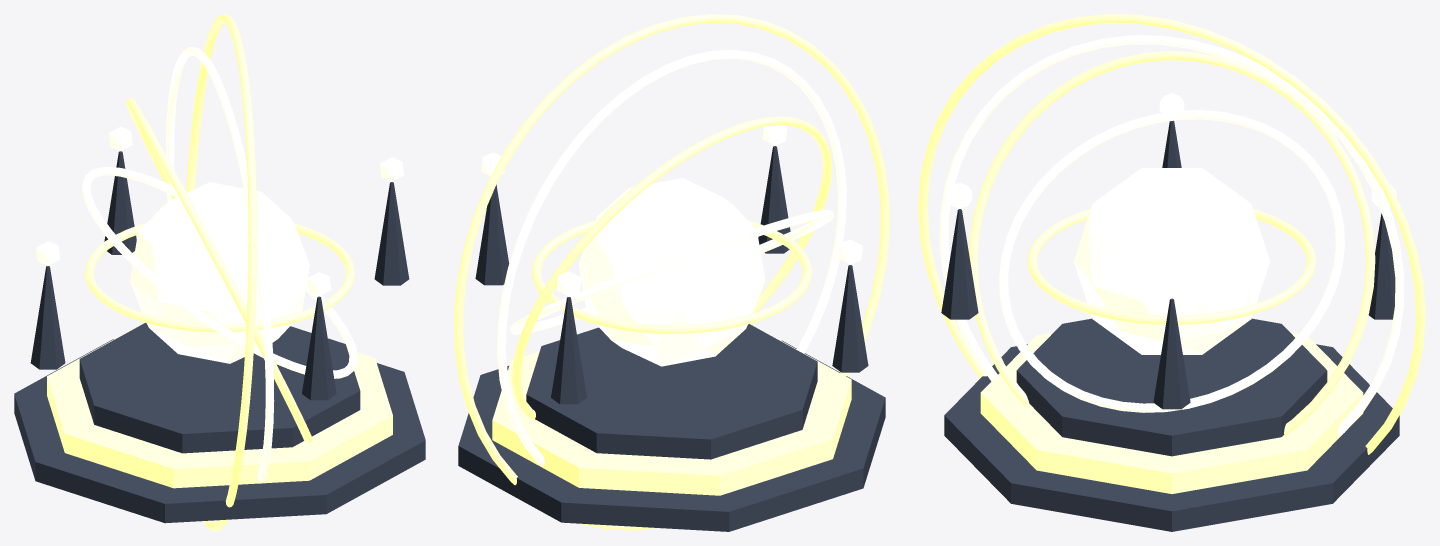
File: gpu-blender-v17.glb
3 views of the same model, side by side, from view 1: azimuth 30°, elevation 25°; view 2: azimuth 150°, elevation 25°; view 3: azimuth 270°, elevation 25° (orthographic). The views are drawn at different scales.
Parts seen in each view (by area): view 1: Cylinder.002, SovereignCore_adytum-alchemist-ai-workflow, Cylinder, Cylinder.001, Torus.004, Torus.003, Torus.001, Torus, Torus.002, Cone.003, Cone, Cone.002 (+1 smaller); view 2: Cylinder.002, SovereignCore_adytum-alchemist-ai-workflow, Cylinder, Cylinder.001, Torus.004, Torus.003, Torus.002, Torus, Torus.001, Cone.001, Cone.002, Cone (+1 smaller); view 3: SovereignCore_adytum-alchemist-ai-workflow, Cylinder.002, Cylinder, Cylinder.001, Torus.004, Torus.001, Torus.003, Torus.002, Torus, Cone, Cone.003, Cone.001 (+1 smaller).
Part boxes in pixels (left/top/right/bottom): Cylinder.002: left=79, top=323, right=360, bottom=453; SovereignCore_adytum-alchemist-ai-workflow: left=130, top=182, right=309, bottom=363; Cylinder: left=14, top=339, right=425, bottom=523; Cylinder.001: left=47, top=330, right=392, bottom=488; Torus.004: left=186, top=14, right=257, bottom=531; Torus.003: left=165, top=47, right=274, bottom=483; Torus.001: left=82, top=166, right=357, bottom=378; Torus: left=85, top=223, right=354, bottom=332; Torus.002: left=126, top=98, right=312, bottom=442; Cone.003: left=302, top=296, right=336, bottom=400; Cone: left=374, top=182, right=409, bottom=285; Cone.002: left=30, top=266, right=65, bottom=369; Cylinder.002: left=526, top=324, right=817, bottom=459; SovereignCore_adytum-alchemist-ai-workflow: left=578, top=178, right=765, bottom=366; Cylinder: left=458, top=340, right=885, bottom=531; Cylinder.001: left=492, top=331, right=851, bottom=495; Torus.004: left=454, top=14, right=889, bottom=530; Torus.003: left=497, top=49, right=846, bottom=466; Torus.002: left=512, top=116, right=831, bottom=419; Torus: left=531, top=220, right=812, bottom=333; Torus.001: left=510, top=209, right=833, bottom=334; Cone.001: left=551, top=297, right=586, bottom=404; Cone.002: left=832, top=265, right=868, bottom=372; Cone: left=475, top=184, right=509, bottom=285; SovereignCore_adytum-alchemist-ai-workflow: left=1073, top=168, right=1270, bottom=354; Cylinder.002: left=1016, top=318, right=1327, bottom=456; Cylinder: left=944, top=344, right=1399, bottom=531; Cylinder.001: left=980, top=332, right=1363, bottom=493; Torus.004: left=918, top=14, right=1425, bottom=454; Torus.001: left=999, top=110, right=1344, bottom=412; Torus.003: left=939, top=35, right=1404, bottom=437; Torus.002: left=969, top=51, right=1375, bottom=435; Torus: left=1027, top=209, right=1316, bottom=324; Cone: left=1153, top=298, right=1190, bottom=409; Cone.003: left=941, top=209, right=978, bottom=319; Cone.001: left=1368, top=213, right=1395, bottom=319.
Bounding box in the file's own units: 4.41 × 5.33 × 4.9.
